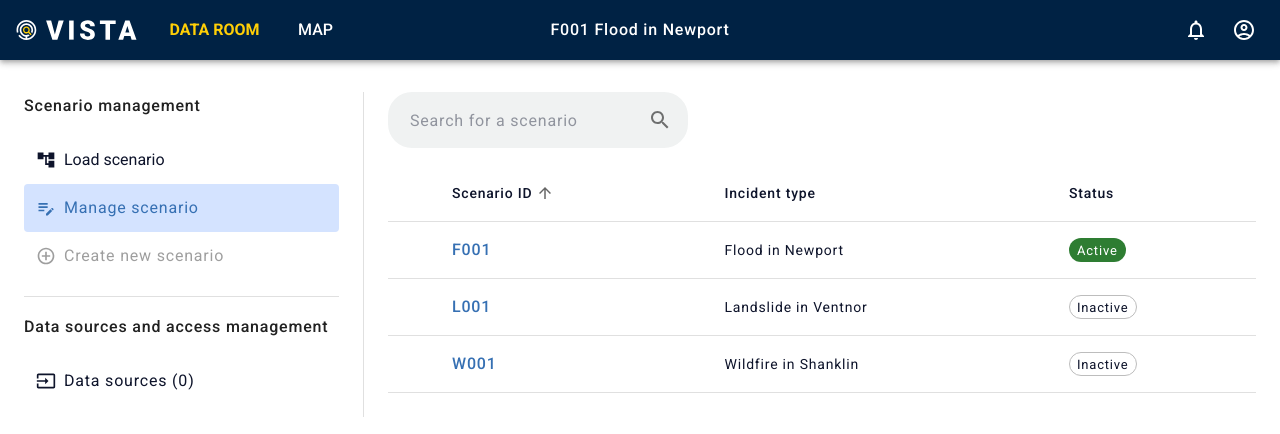
ManageScenarios › shows empty state when no scenarios match search
The width and height of the screenshot is (1280, 434).
expect the text "F001" is shown: met, box 452,240 -> 491,259
Type "nonexistent" into the field with placeholder "Search for a scenario".
click(518, 120); type("nonexistent")  # box 396,92 -> 640,148
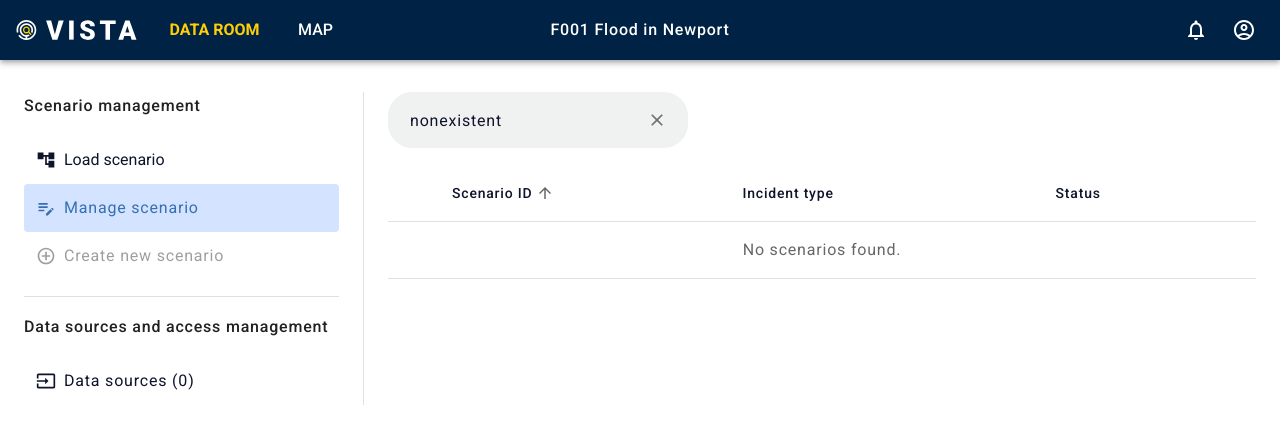
expect the text "No scenarios found." is shown: met, box 743,240 -> 901,259
